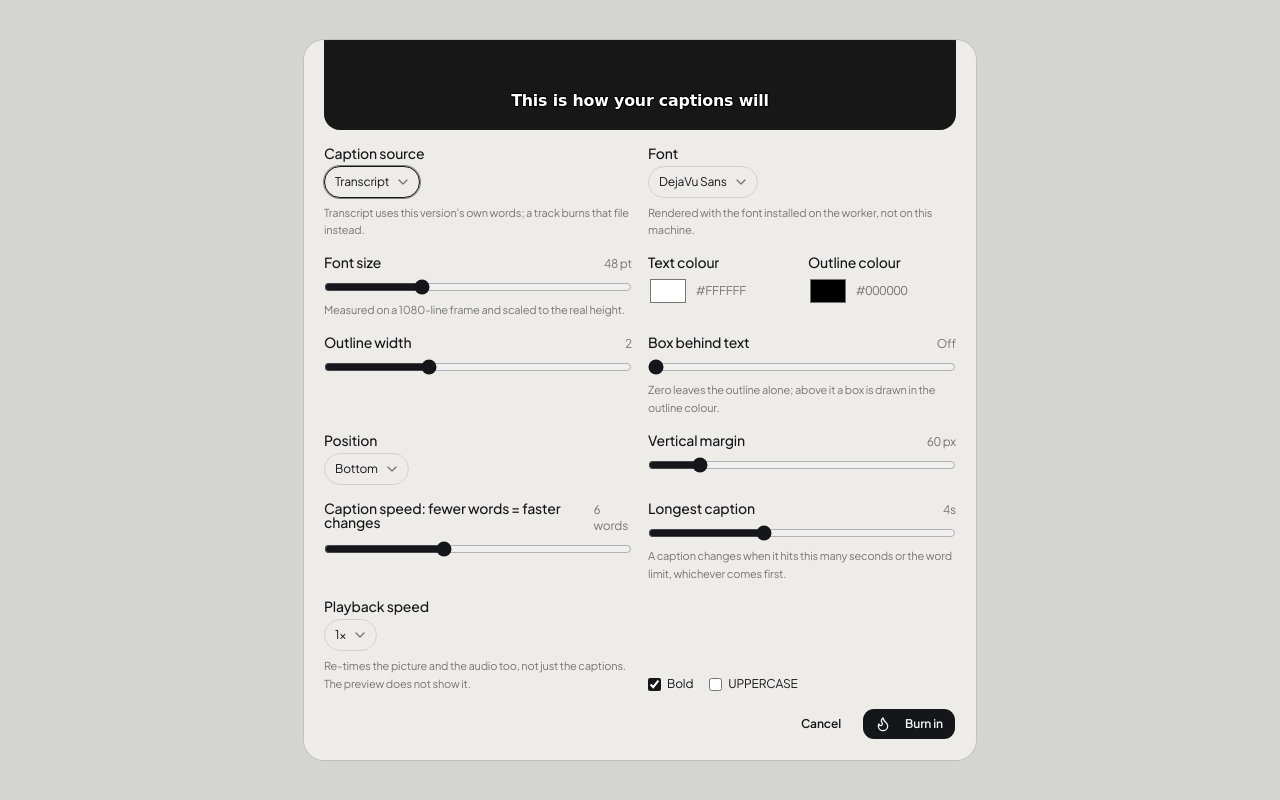
Test: BurnInDialog › shows the message a refused start returned
This screenshot has width=1280, height=800.
(page scrolled)
Click the button "Burn in": (909,724) [862,708,956,740]
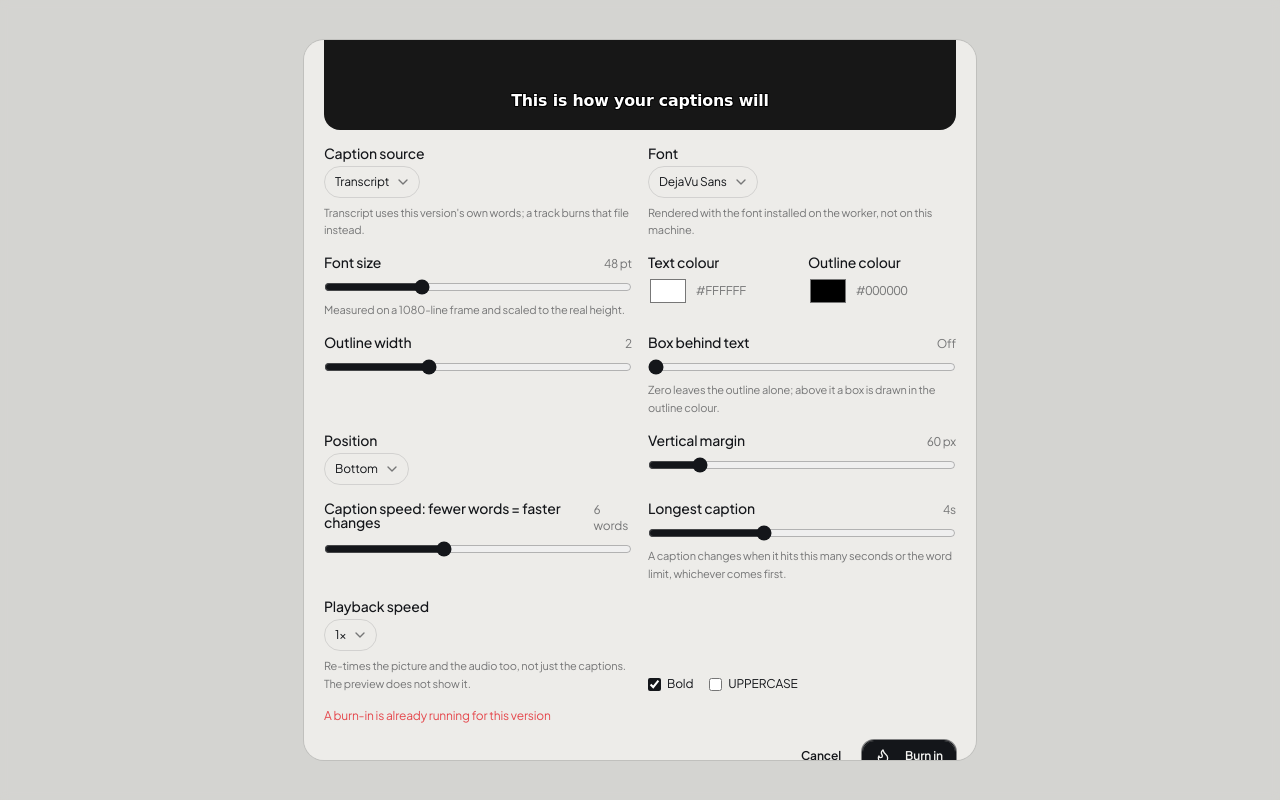
Expected: the message reads "A burn-in is already running for this version", [324,708,551,723]
